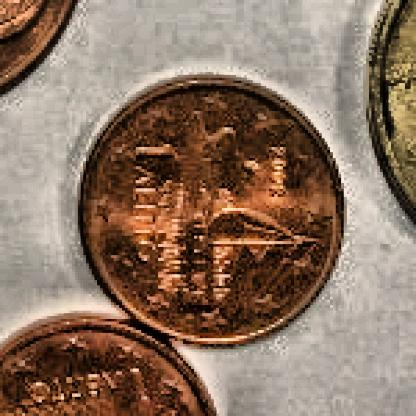coin: (77, 71, 350, 350)
